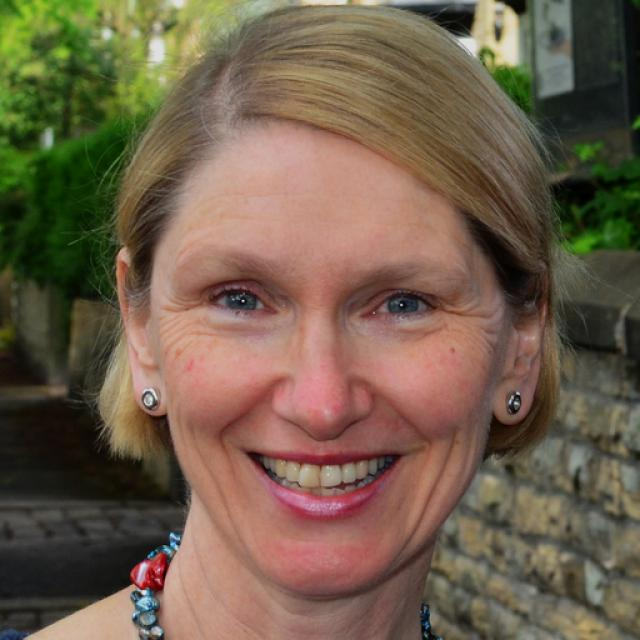Pigmentation: (265, 341, 373, 435), (270, 542, 387, 587)
